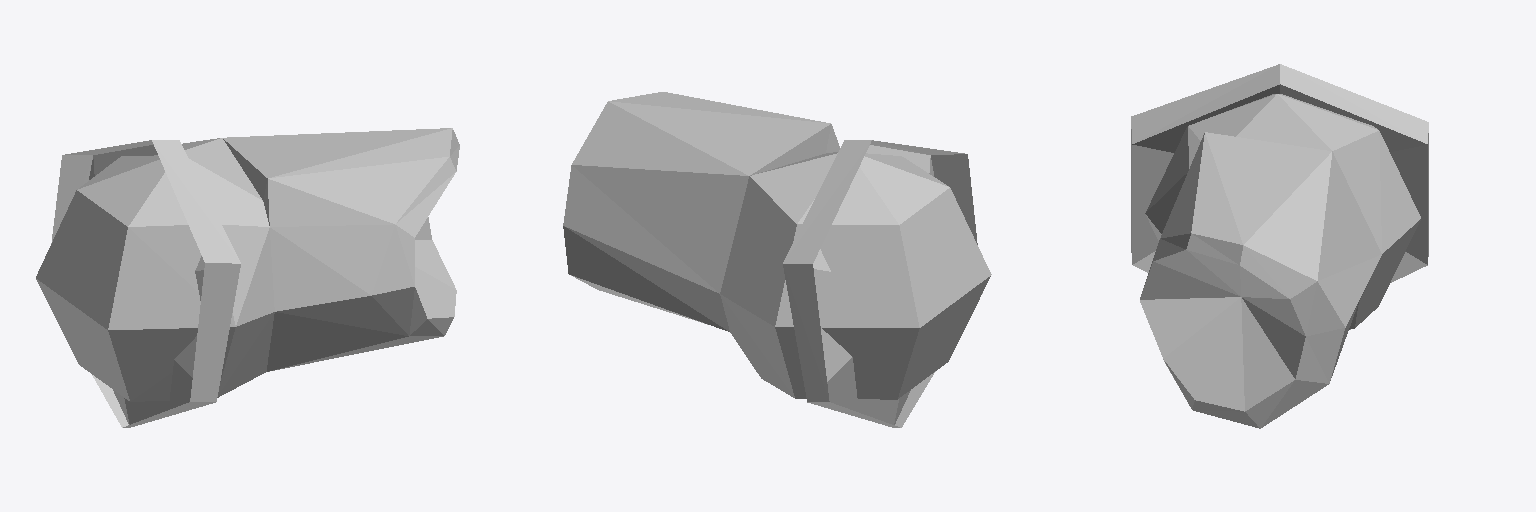
The model's file is buzzlightyLeftArm.obj.
3 views of the same model, side by side, from view 1: azimuth 30°, elevation 25°; view 2: azimuth 150°, elevation 25°; view 3: azimuth 270°, elevation 25° (orthographic).
Parts seen in each view (by area): view 1: buzzlightyLeftArm_buzzlighty.012; view 2: buzzlightyLeftArm_buzzlighty.012; view 3: buzzlightyLeftArm_buzzlighty.012.
Boxes of the visible parts, <box> form: buzzlightyLeftArm_buzzlighty.012: <box>36,128,459,427</box>; buzzlightyLeftArm_buzzlighty.012: <box>563,92,991,427</box>; buzzlightyLeftArm_buzzlighty.012: <box>1131,64,1428,428</box>.
Size of the model in its own units: 0.1718 by 0.1246 by 0.1191.